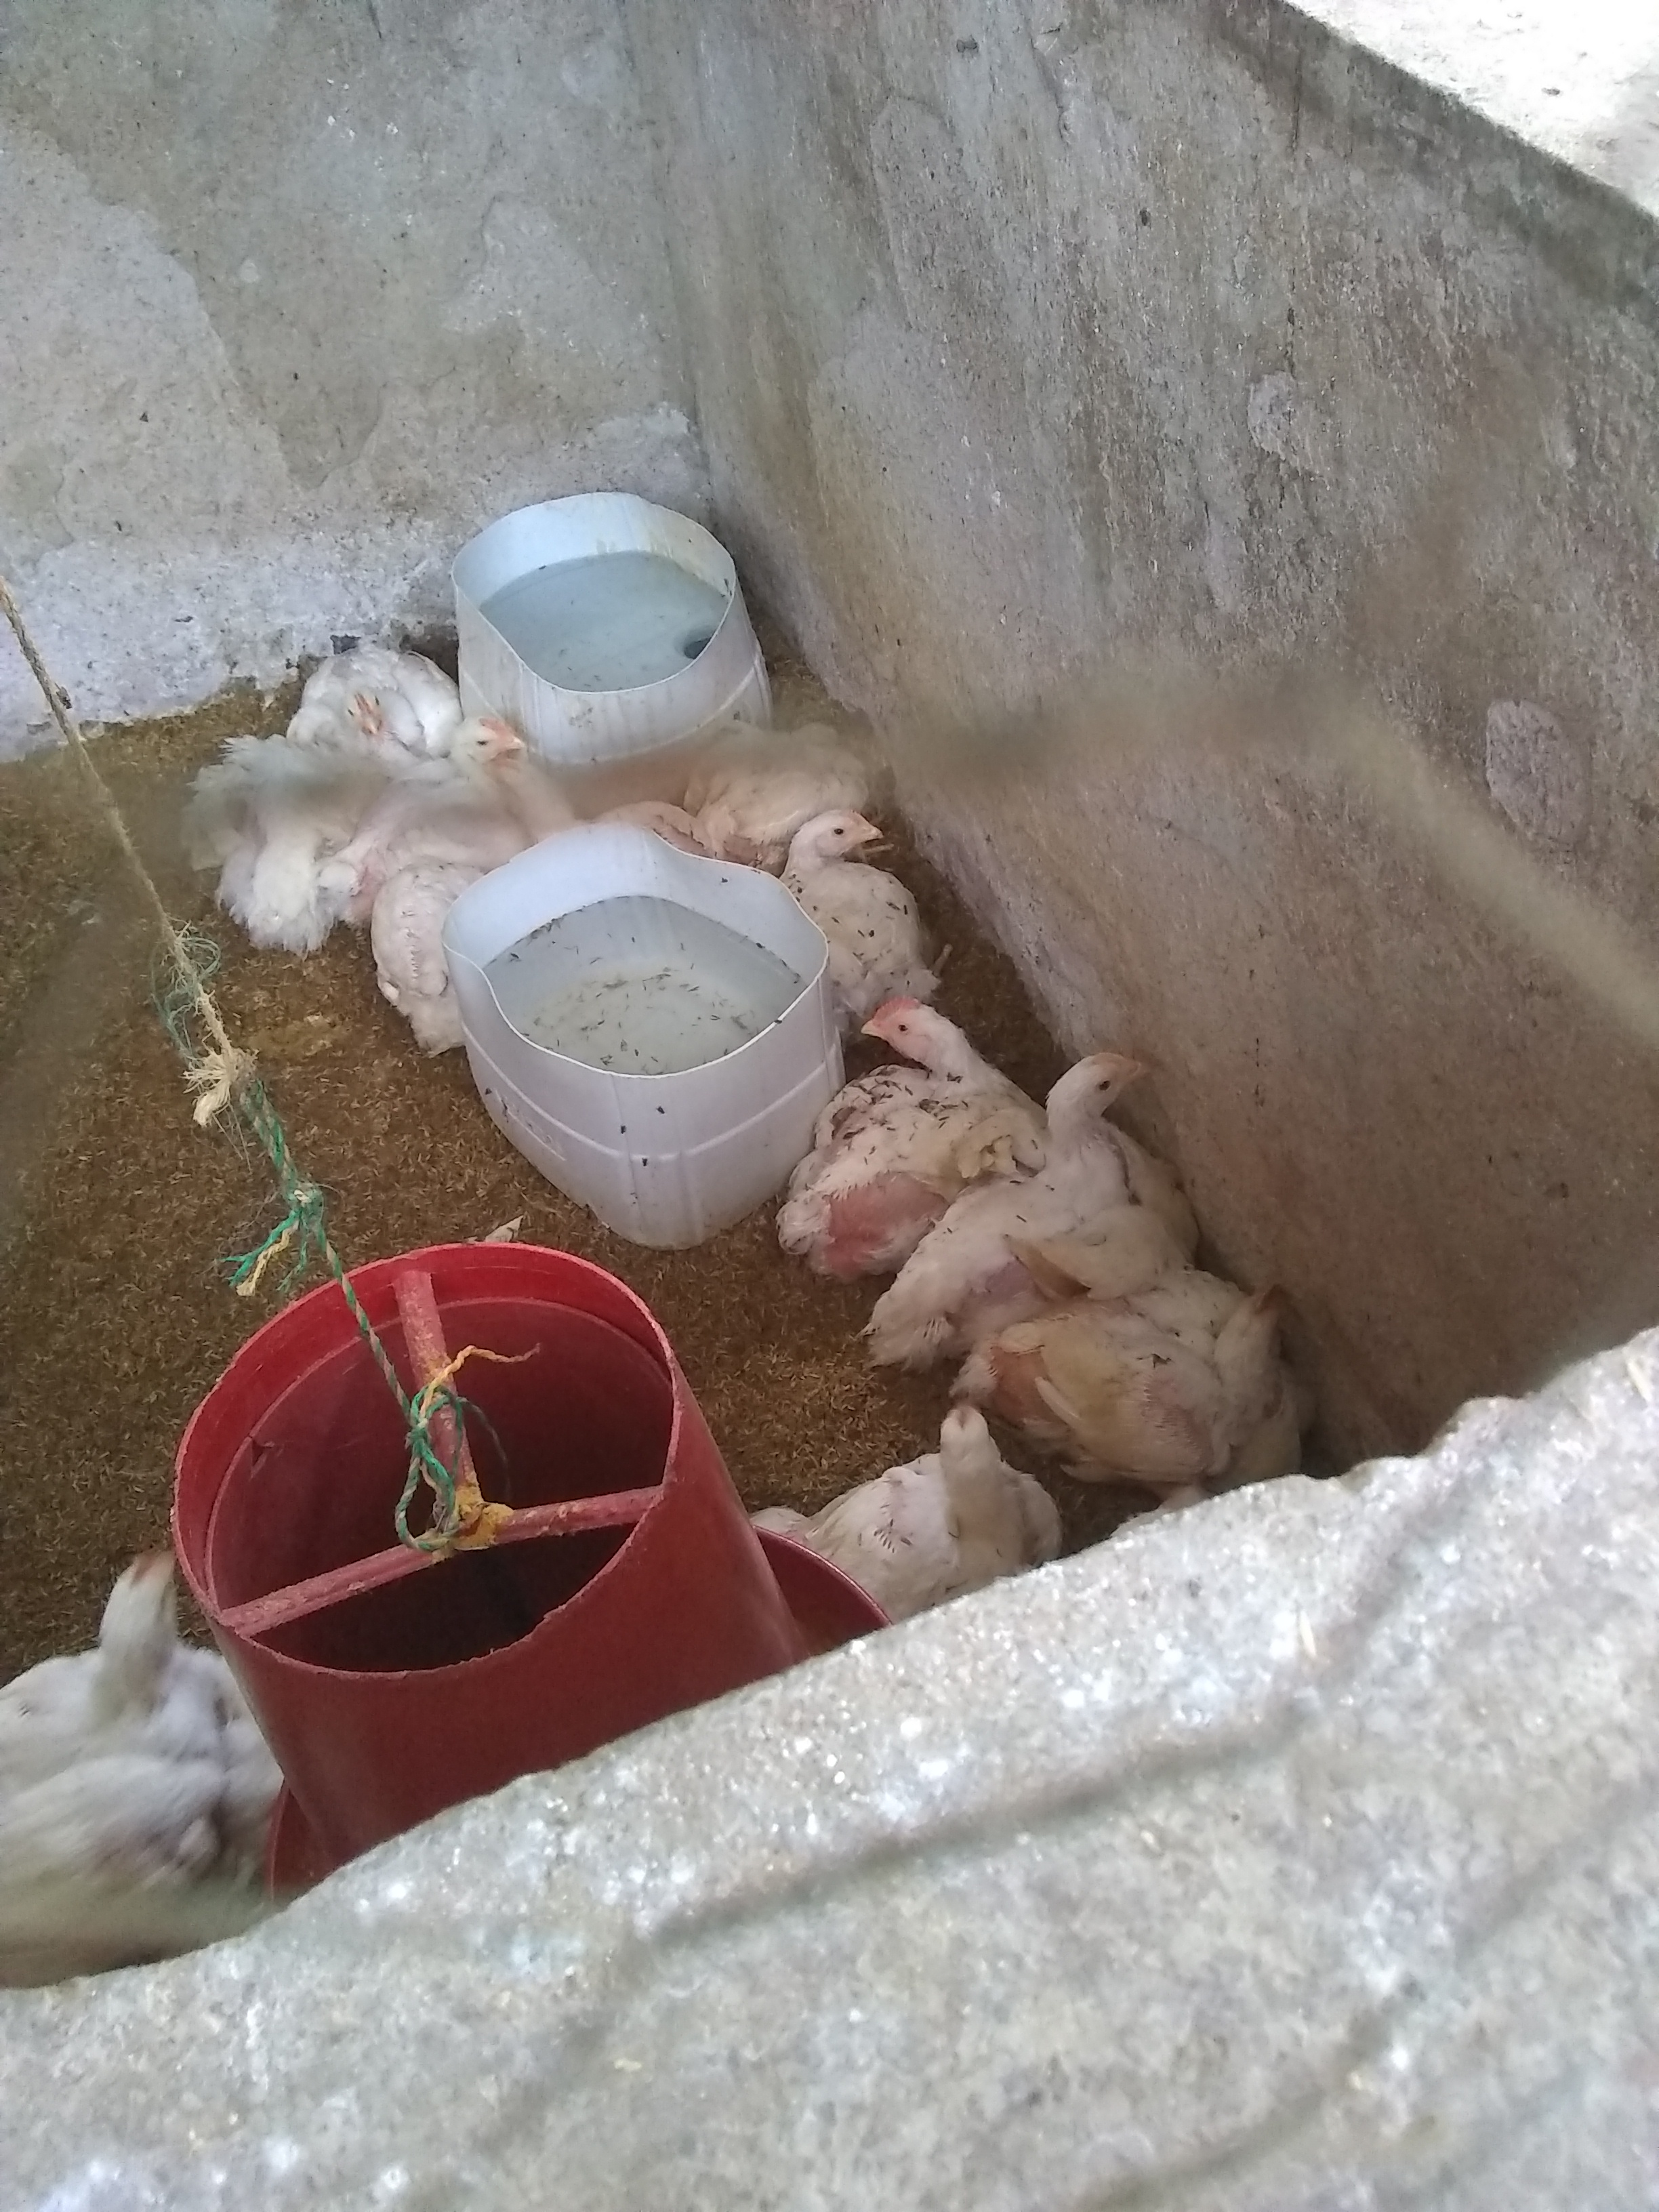Pollos: (0, 1559, 357, 1961), (728, 1386, 1066, 1681), (917, 1014, 1187, 1378), (953, 1282, 1338, 1519), (782, 953, 1007, 1287), (380, 685, 559, 1014), (694, 657, 917, 873), (157, 761, 385, 941), (756, 813, 953, 993), (300, 596, 453, 787)
